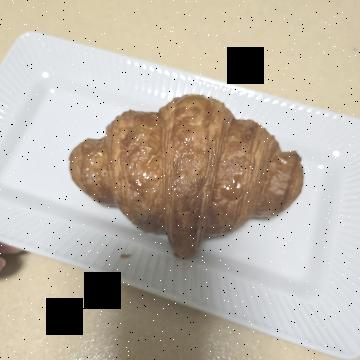croissant: (83, 50, 270, 303)
